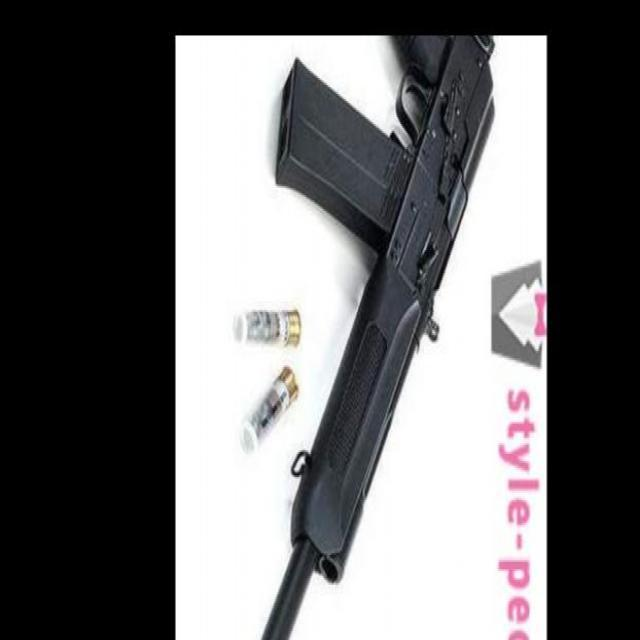weapon: (260, 37, 494, 640)
